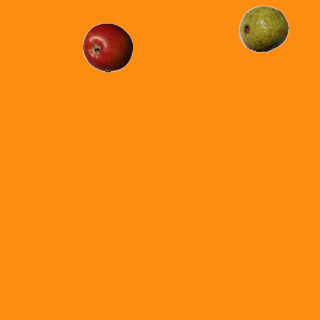Apple Braeburn: (82, 22, 132, 72)
Guava: (238, 3, 288, 53)
